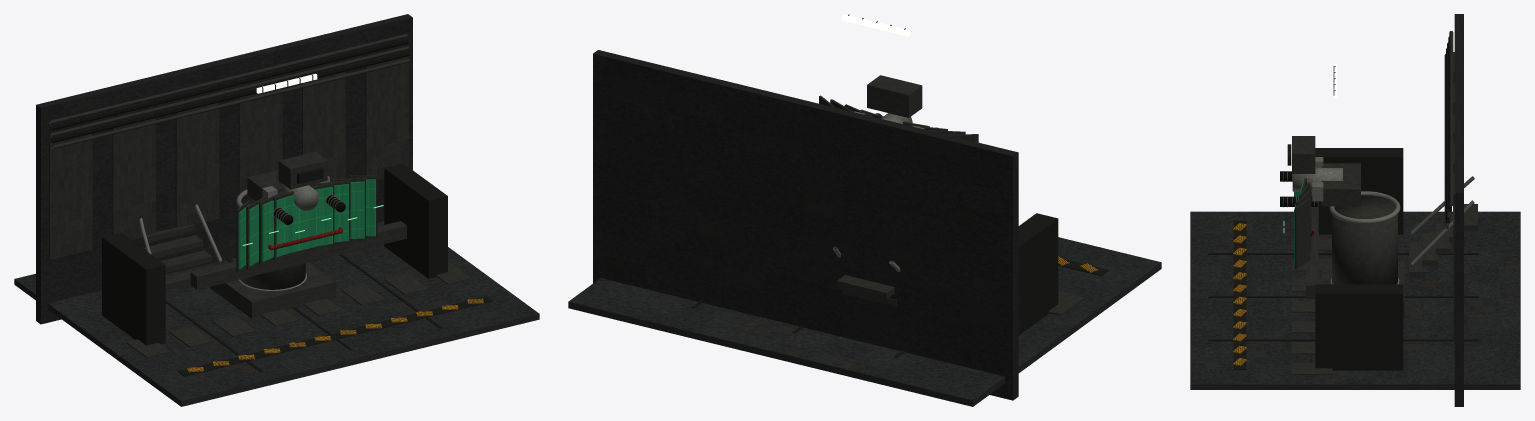
Rendered from GLB_06_armory_turret_grip_mount.glb.
3 renders of one model, left to right at view 1: azimuth 30°, elevation 25°; view 2: azimuth 150°, elevation 25°; view 3: azimuth 270°, elevation 25°, orthographic. The views are drawn at different scales.
Parts seen in each view (by area): view 1: armory_oily_diamond_floor_base, armory_rear_blackened_wall, armory_left_corridor_hint, armory_right_corridor_hint, armory_rear_panel_2, armory_rear_panel_0, armory_rear_panel_1, armory_rear_panel_5, armory_rear_panel_4, armory_rear_panel_3, armory_curved_screen_lower_black_mount, armory_pillar_square_floor_plinth (+25 smaller); view 2: armory_rear_blackened_wall, armory_oily_diamond_floor_base, armory_left_corridor_hint, armory_turret_small_sight_block, armory_rear_access_stair_4; view 3: armory_oily_diamond_floor_base, armory_right_corridor_hint, armory_central_round_turret_pillar, armory_rear_blackened_wall, armory_left_corridor_hint, armory_turret_top_control_console, armory_black_recessed_hazard_strip, armory_curved_front_screen_frame_8, armory_turret_small_sight_block, armory_curved_screen_lower_black_mount, armory_overhead_pipe_0, armory_turret_pivot_axis (+14 smaller).
Part boxes in pixels (left/top/right/bottom): armory_oily_diamond_floor_base: left=14, top=221, right=539, bottom=406; armory_rear_blackened_wall: left=36, top=14, right=412, bottom=324; armory_left_corridor_hint: left=102, top=232, right=165, bottom=345; armory_right_corridor_hint: left=384, top=163, right=447, bottom=278; armory_rear_panel_2: left=175, top=102, right=219, bottom=227; armory_rear_panel_0: left=49, top=133, right=92, bottom=259; armory_rear_panel_1: left=112, top=118, right=155, bottom=239; armory_rear_panel_5: left=365, top=56, right=408, bottom=179; armory_rear_panel_4: left=302, top=71, right=345, bottom=181; armory_rear_panel_3: left=239, top=88, right=282, bottom=194; armory_curved_screen_lower_black_mount: left=190, top=221, right=406, bottom=289; armory_pillar_square_floor_plinth: left=210, top=262, right=335, bottom=318; armory_rear_blackened_wall: left=593, top=50, right=1018, bottom=400; armory_oily_diamond_floor_base: left=568, top=237, right=1161, bottom=406; armory_left_corridor_hint: left=1018, top=213, right=1058, bottom=335; armory_turret_small_sight_block: left=867, top=75, right=922, bottom=117; armory_rear_access_stair_4: left=837, top=275, right=894, bottom=299; armory_oily_diamond_floor_base: left=1190, top=211, right=1520, bottom=389; armory_right_corridor_hint: left=1315, top=284, right=1403, bottom=370; armory_central_round_turret_pillar: left=1332, top=195, right=1397, bottom=284; armory_rear_blackened_wall: left=1454, top=14, right=1463, bottom=406; armory_left_corridor_hint: left=1315, top=148, right=1403, bottom=234; armory_turret_top_control_console: left=1321, top=163, right=1360, bottom=206; armory_black_recessed_hazard_strip: left=1233, top=220, right=1246, bottom=369; armory_curved_front_screen_frame_8: left=1294, top=198, right=1310, bottom=269; armory_turret_small_sight_block: left=1292, top=136, right=1315, bottom=173; armory_curved_screen_lower_black_mount: left=1306, top=201, right=1318, bottom=298; armory_overhead_pipe_0: left=1449, top=31, right=1453, bottom=206; armory_turret_pivot_axis: left=1292, top=168, right=1342, bottom=191.
Bounding box in the file's own units: 5.4 × 3.36 × 4.2.
Materials: 11 (8 with a texture image).
